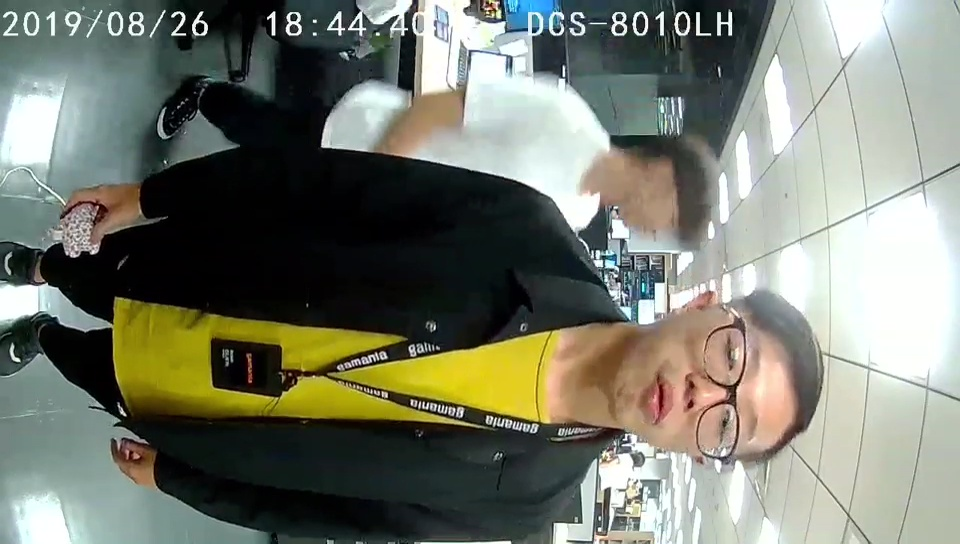pig: (60, 196, 105, 257)
